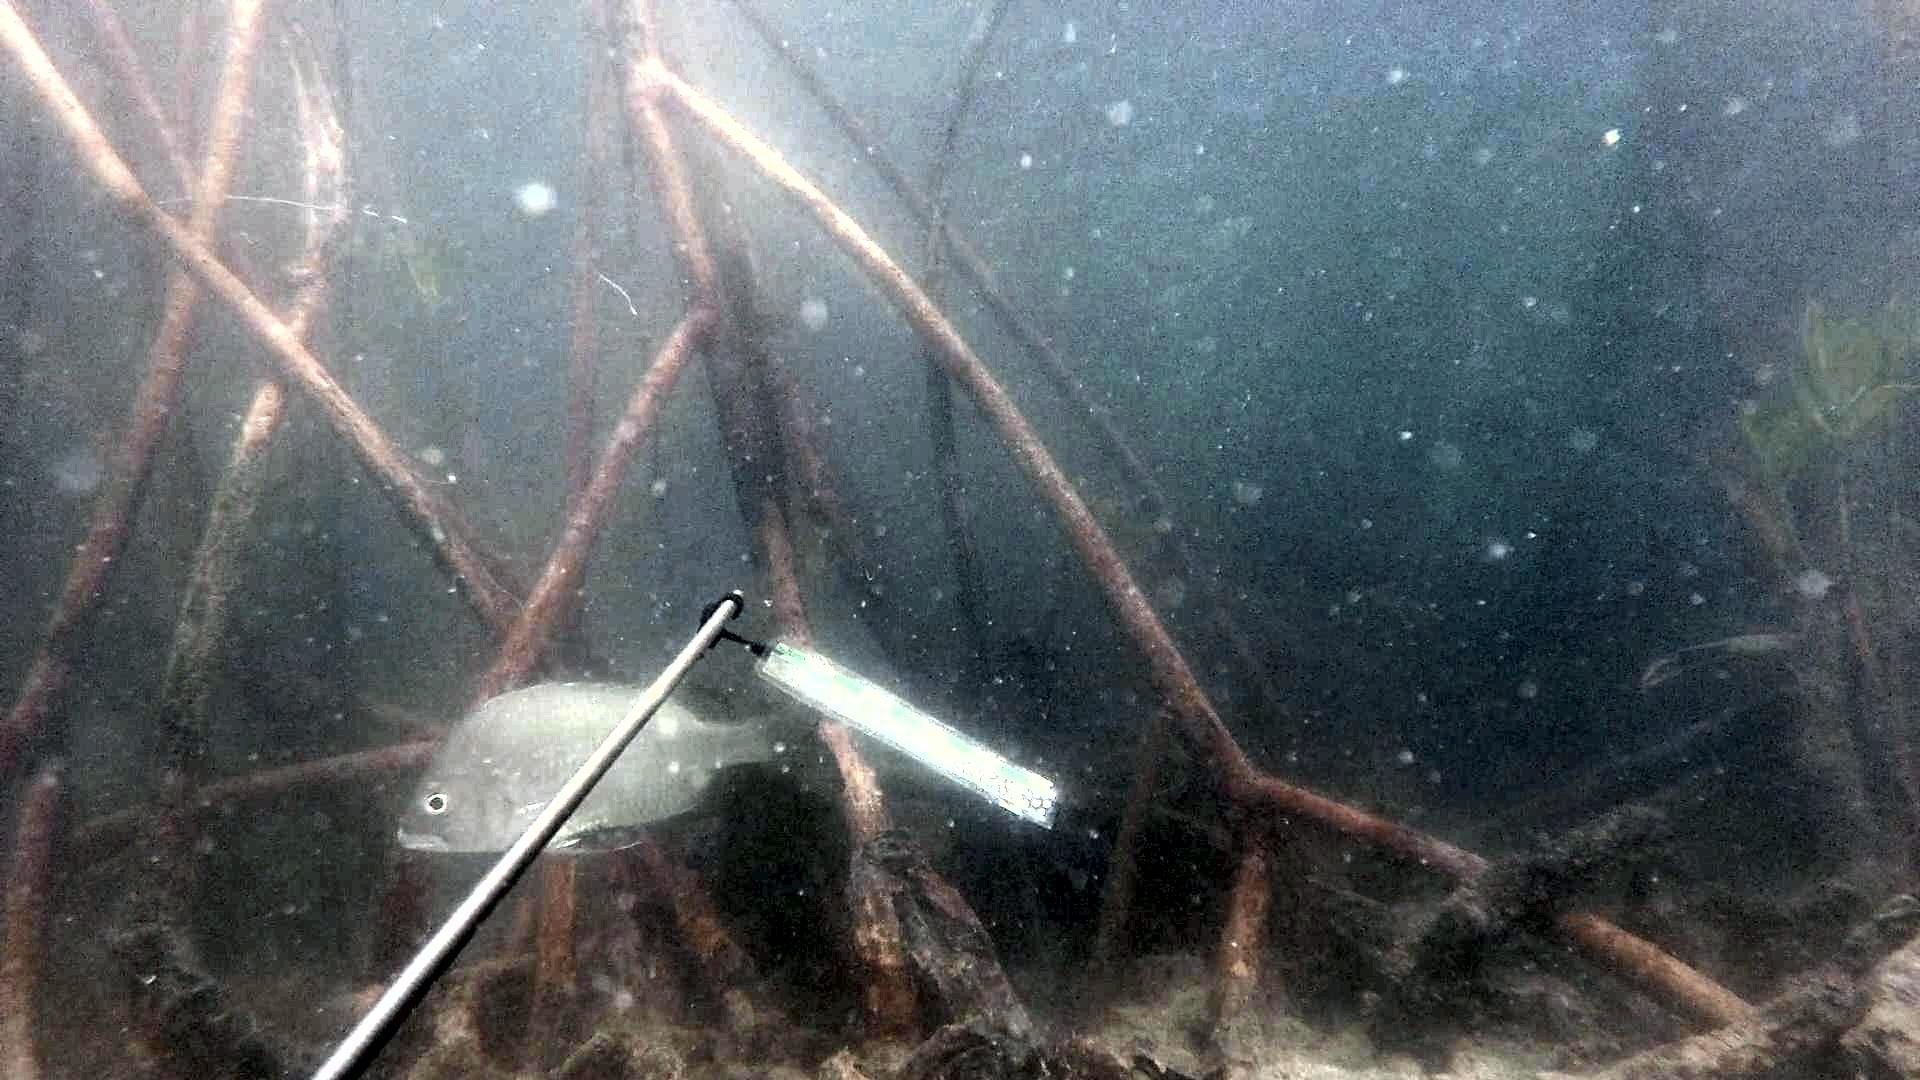acanthopagrus palmaris: (388, 668, 850, 870)
